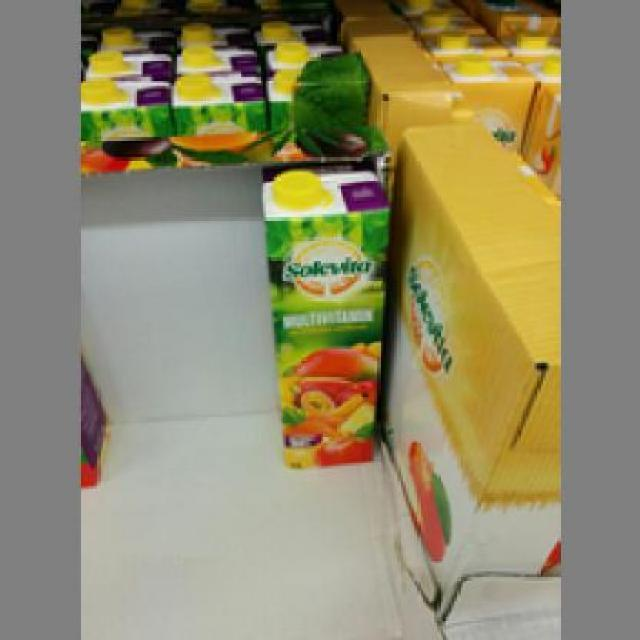Juice: (259, 153, 392, 470)
